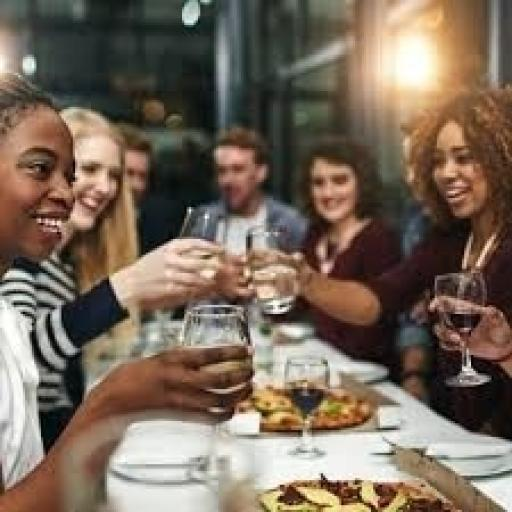eating: (0, 68, 255, 510)
